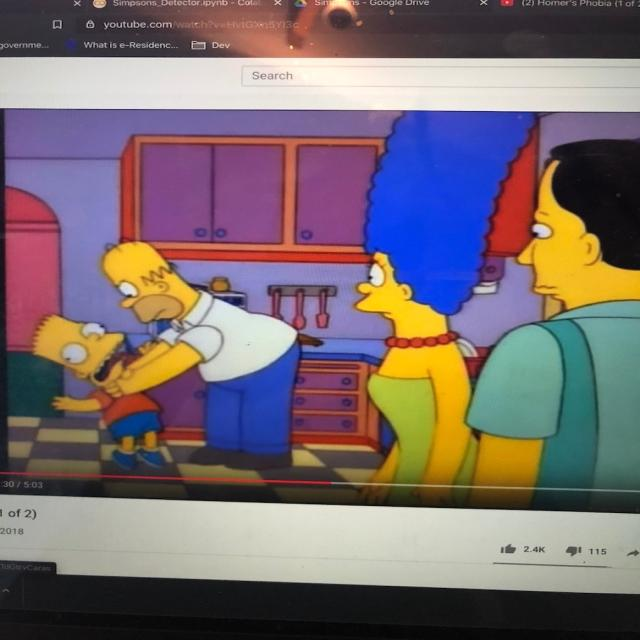Bart Simpson: (98, 235, 202, 328)
Marge Simpson: (351, 111, 544, 351), (26, 310, 133, 394)
